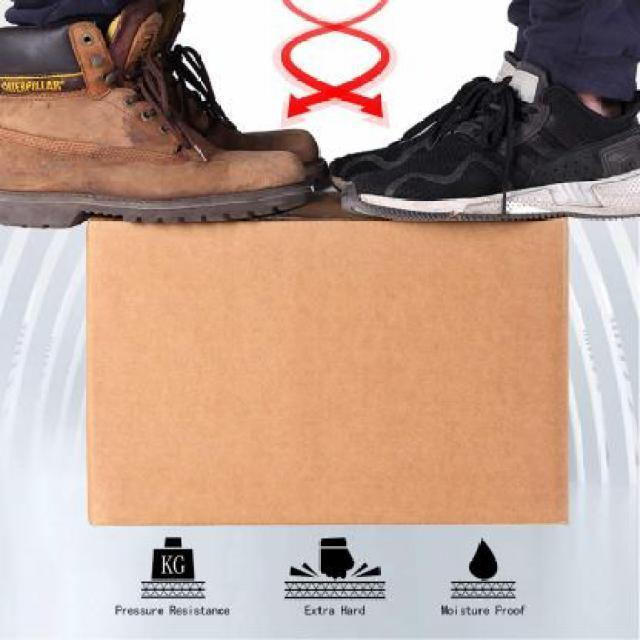box: (79, 182, 577, 531)
